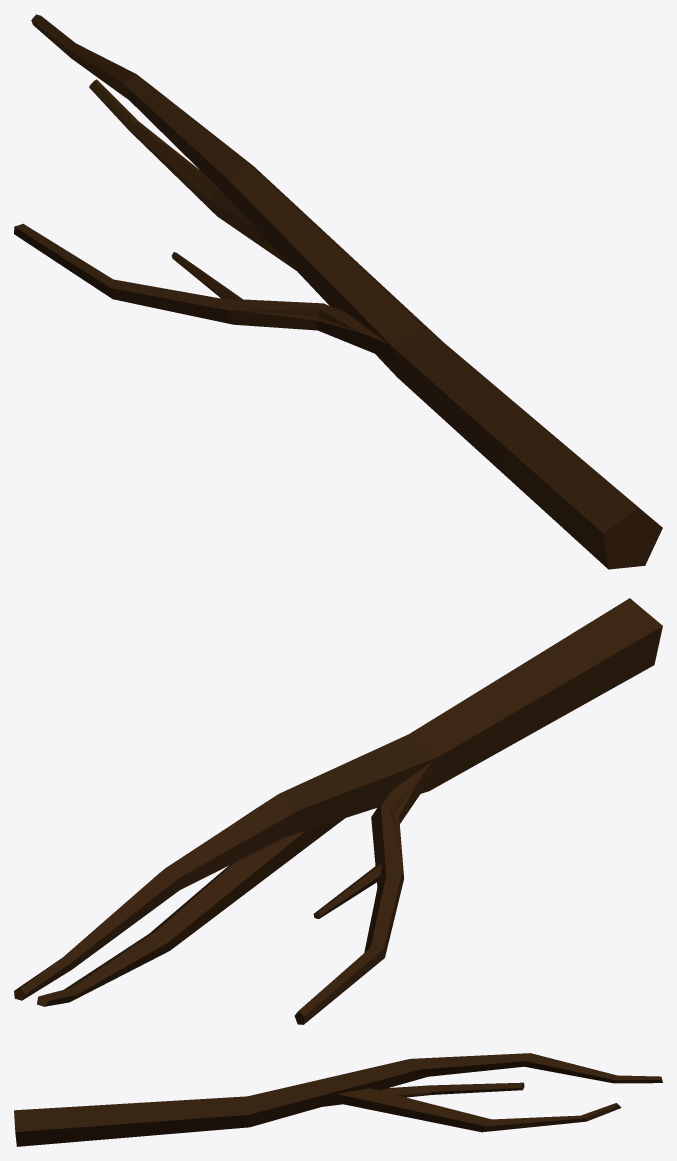
File: Branch4.glb
3 views of the same model, one above another, from view 1: azimuth 30°, elevation 25°; view 2: azimuth 150°, elevation 25°; view 3: azimuth 270°, elevation 25° (orthographic). The views are drawn at different scales.
Parts seen in each view (by area): view 1: Branch_2; view 2: Branch_2; view 3: Branch_2.
Boxes of the visible parts, bbox=[...] form: Branch_2: bbox=[14, 14, 662, 569]; Branch_2: bbox=[14, 598, 662, 1024]; Branch_2: bbox=[14, 1053, 662, 1146].
Size of the model in its own units: 0.4697 by 0.3758 by 2.63.
Materials: 1 (1 with a texture image).
